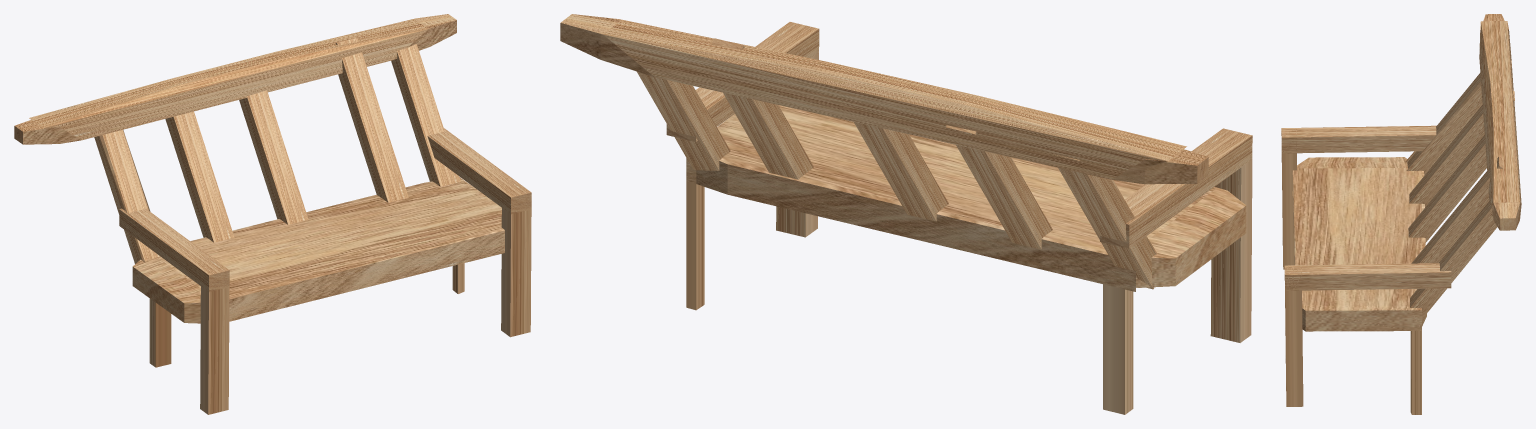
Rendered from lantay.fbx.
3 views of the same model, side by side, from view 1: azimuth 30°, elevation 25°; view 2: azimuth 150°, elevation 25°; view 3: azimuth 270°, elevation 25° (orthographic). The views are drawn at different scales.
Visible parts, largest first — view 1: Cube.001; view 2: Cube.001; view 3: Cube.001.
Part boxes in pixels (box(x1,y1,x2,y2)): Cube.001: box(14, 14, 531, 414); Cube.001: box(560, 14, 1252, 414); Cube.001: box(1281, 14, 1521, 414).
Size of the model in its own units: 95.92 by 48.9 by 47.93.
